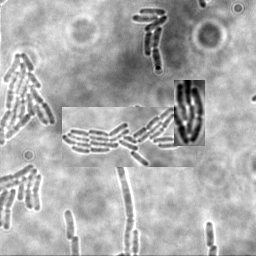Dividing: (114, 168, 133, 255), (204, 221, 215, 248)
Microcolony: (62, 107, 196, 167), (1, 51, 56, 147), (1, 162, 44, 231), (130, 8, 167, 72), (174, 80, 205, 146), (63, 208, 74, 240)
